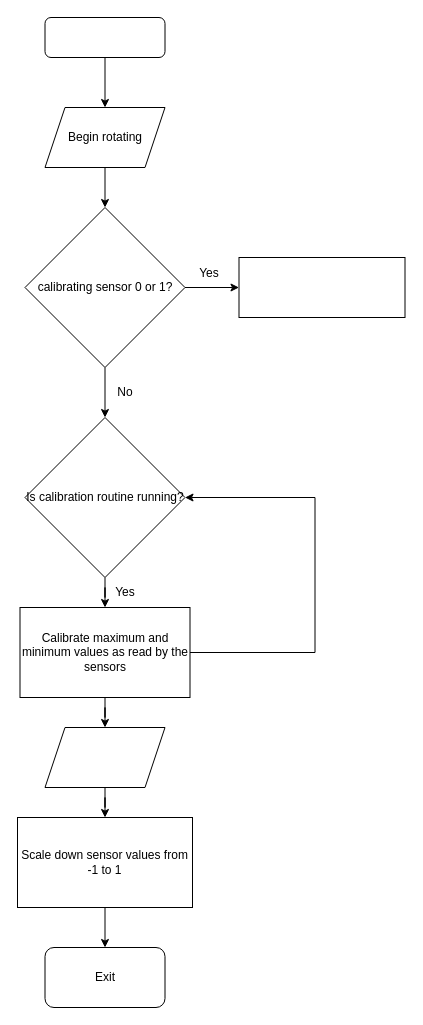
Image size: 423x1025. Some labels were removed from this diagram. The shapes that lost their labels are listed below. From the top down, each one's centre as x and y in pixels, then its label:
[104,37]: Start
[321,287]: max sensor value = 0 min sensor value = 1023
[104,757]: 10 ms delay
